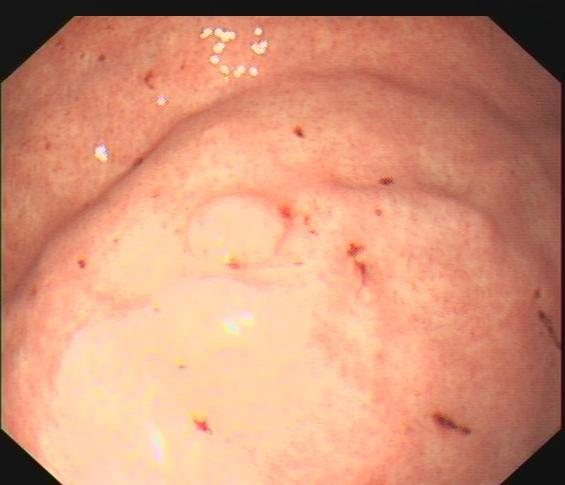Polyp: (179, 187, 291, 270)
